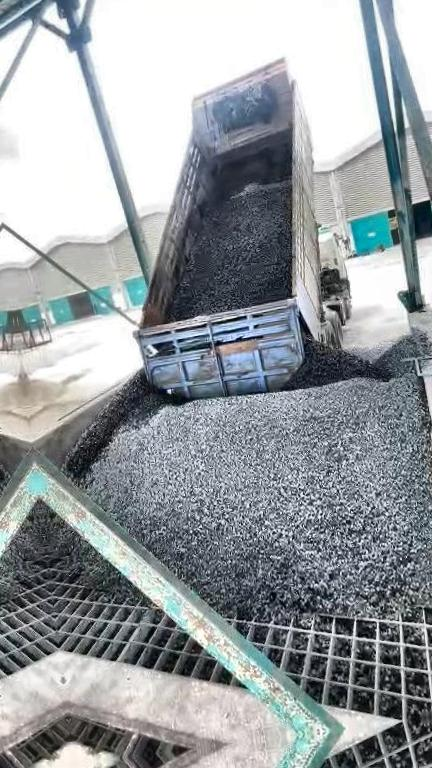gravel: (64, 328, 432, 619), (173, 152, 292, 320), (42, 503, 139, 600)
sand: (24, 367, 109, 440)
